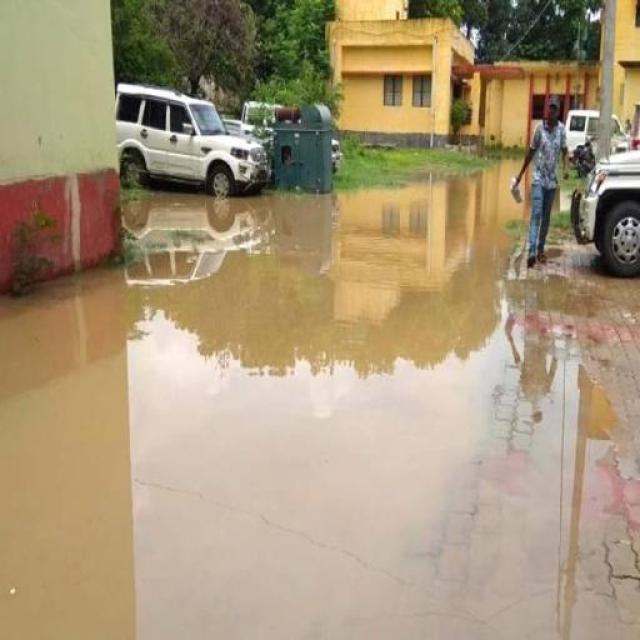puddle: (5, 303, 569, 640), (143, 191, 514, 351)
